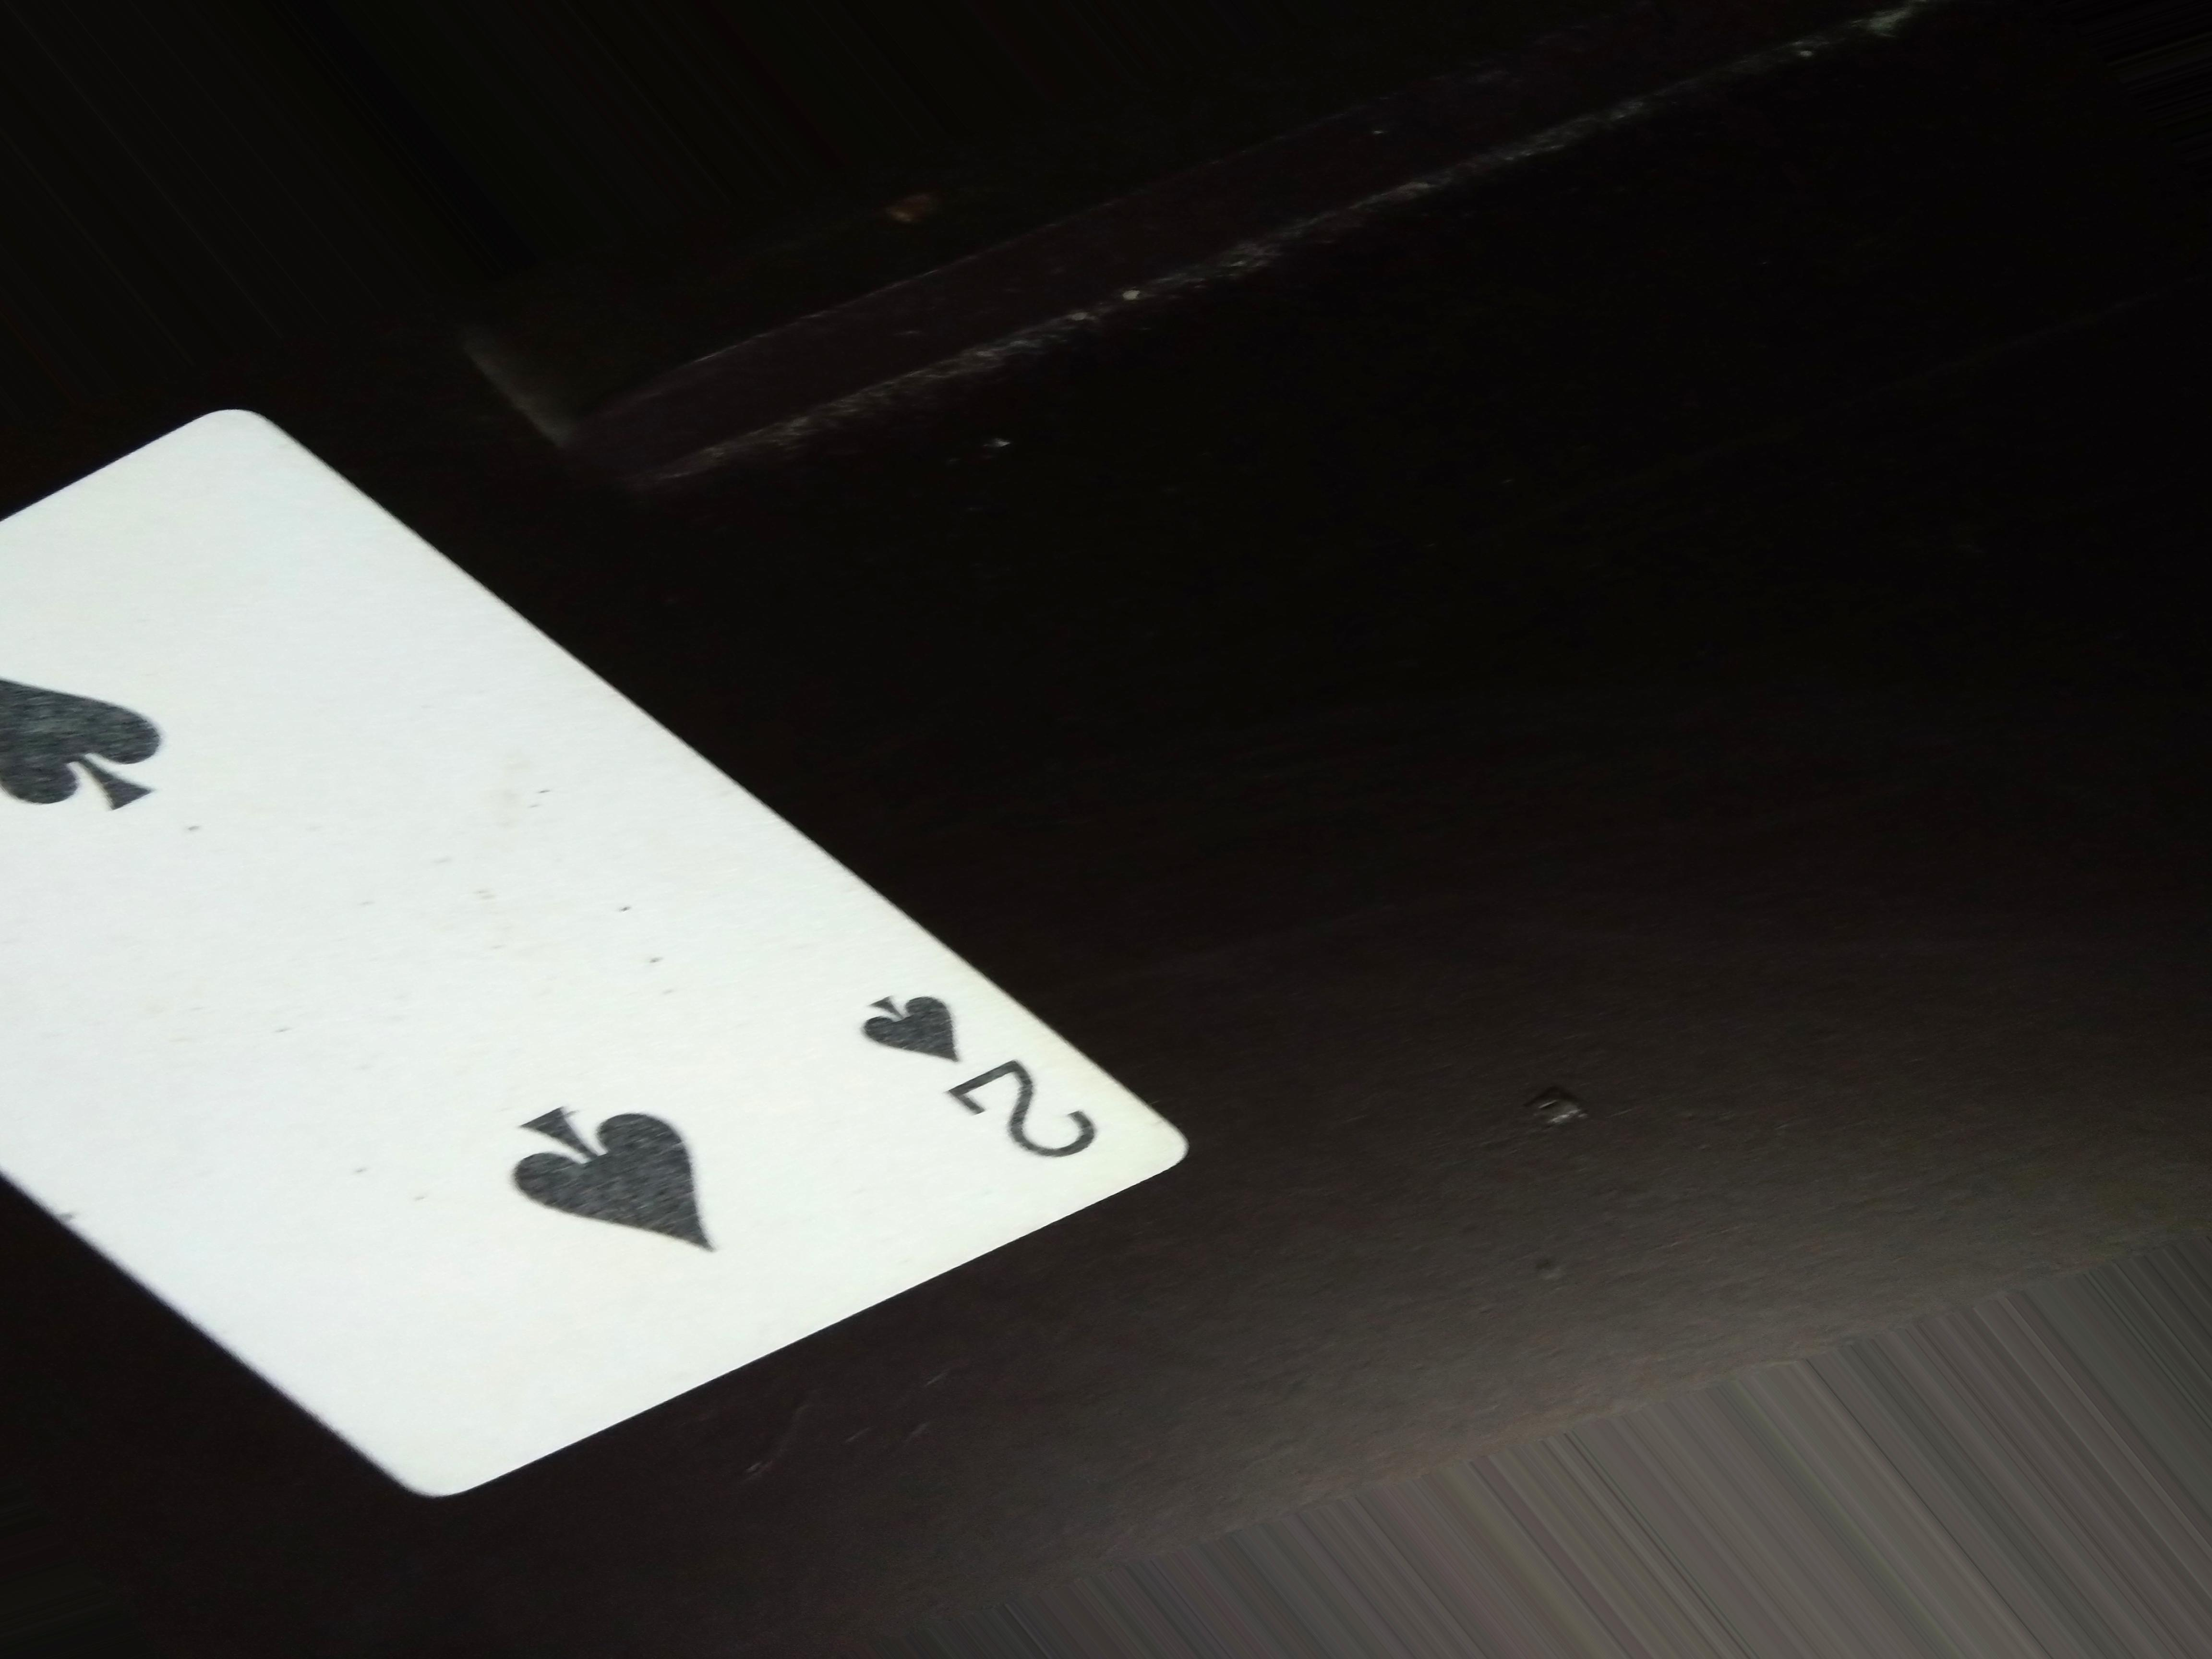2S: (855, 964, 1108, 1195)
